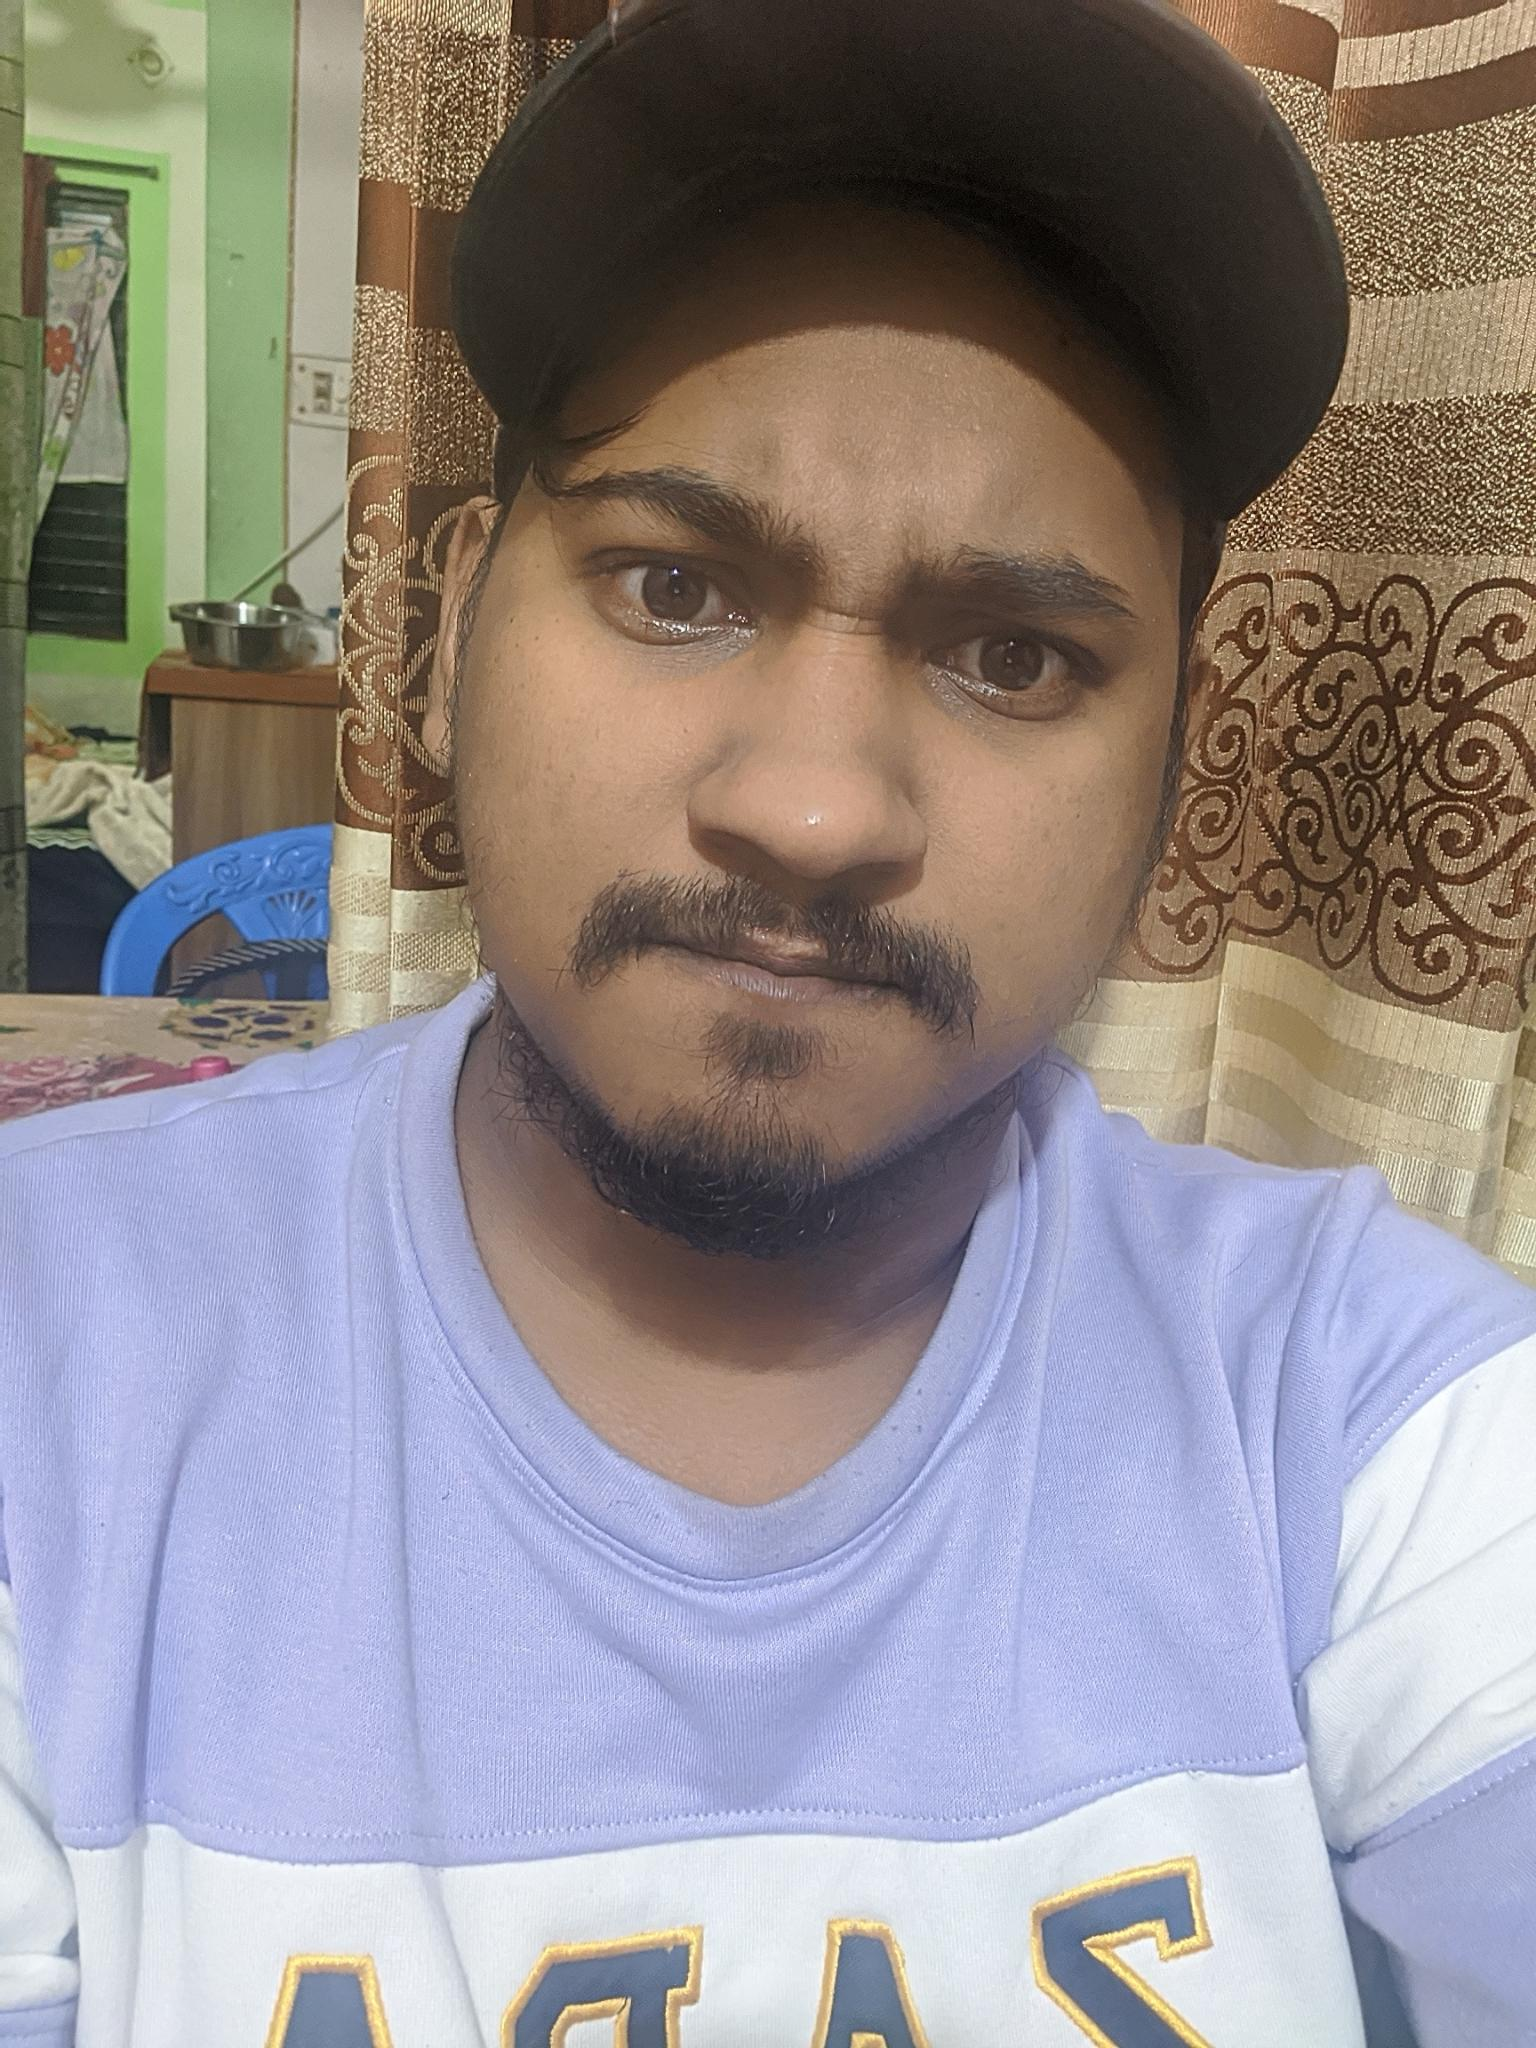Angry: (453, 332, 1176, 1203)
